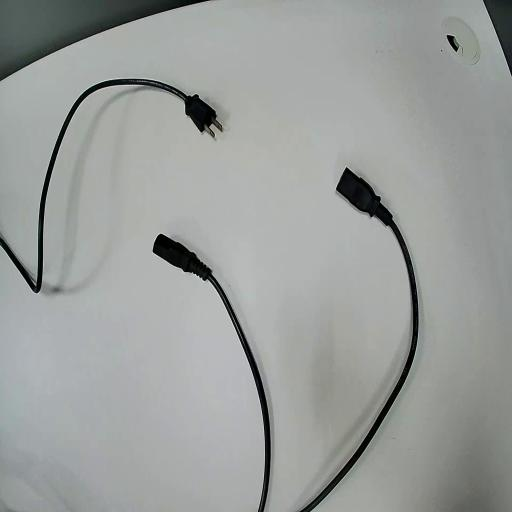wire: (0, 80, 215, 291), (301, 169, 417, 511), (154, 235, 269, 511)
